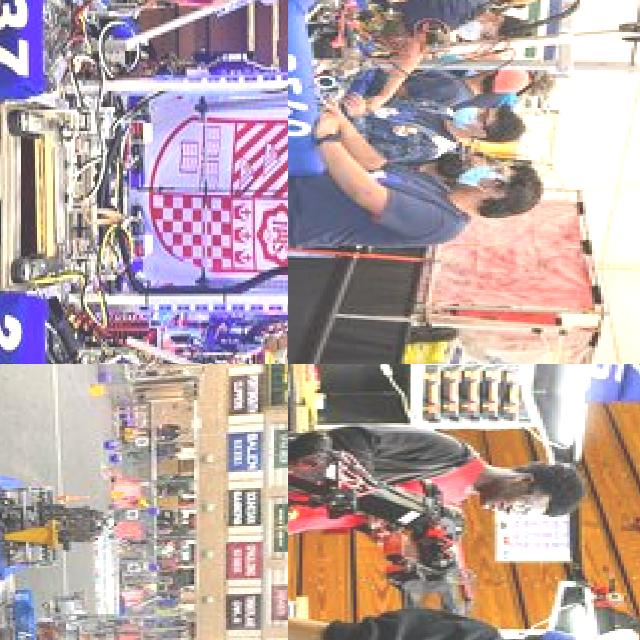FRC-Robots: (0, 0, 288, 364), (288, 0, 640, 179), (288, 390, 489, 628), (0, 465, 142, 583), (0, 596, 163, 640)
